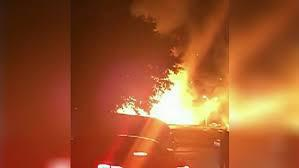fire: (116, 62, 222, 126)
